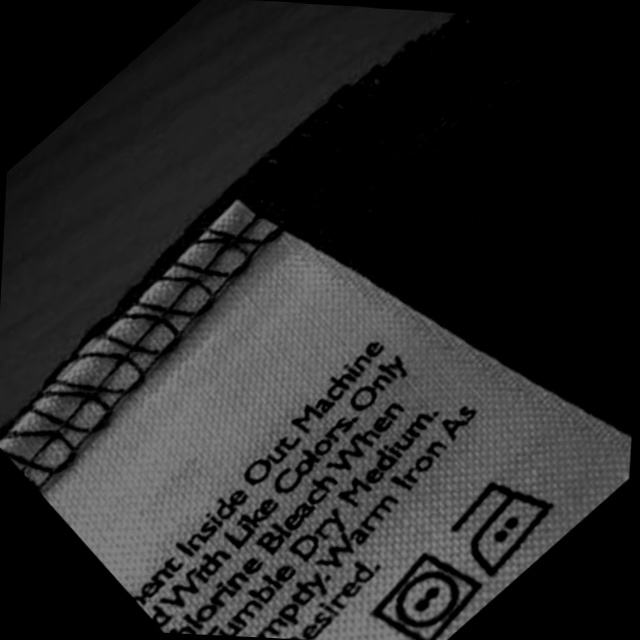iron_medium: (451, 479, 561, 577)
tumble_dry_medium: (372, 552, 486, 640)
